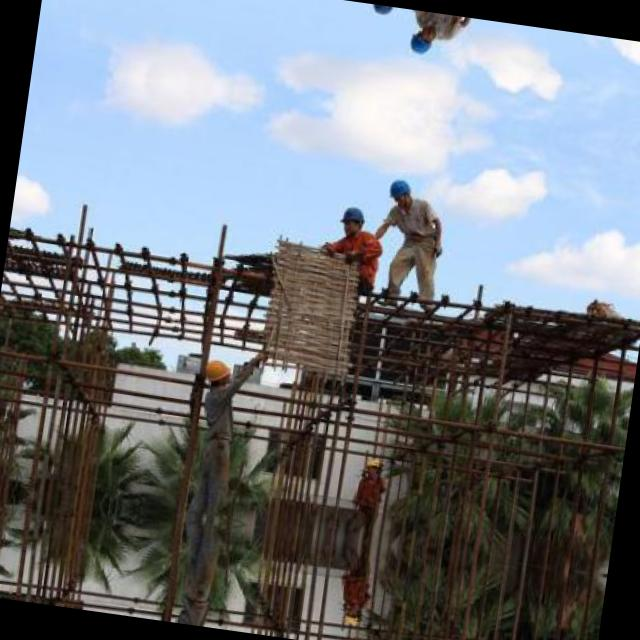helmet: (337, 201, 371, 240), (202, 354, 238, 389), (385, 175, 418, 210), (406, 23, 439, 58), (367, 4, 400, 22), (362, 458, 386, 482), (342, 600, 366, 624)
